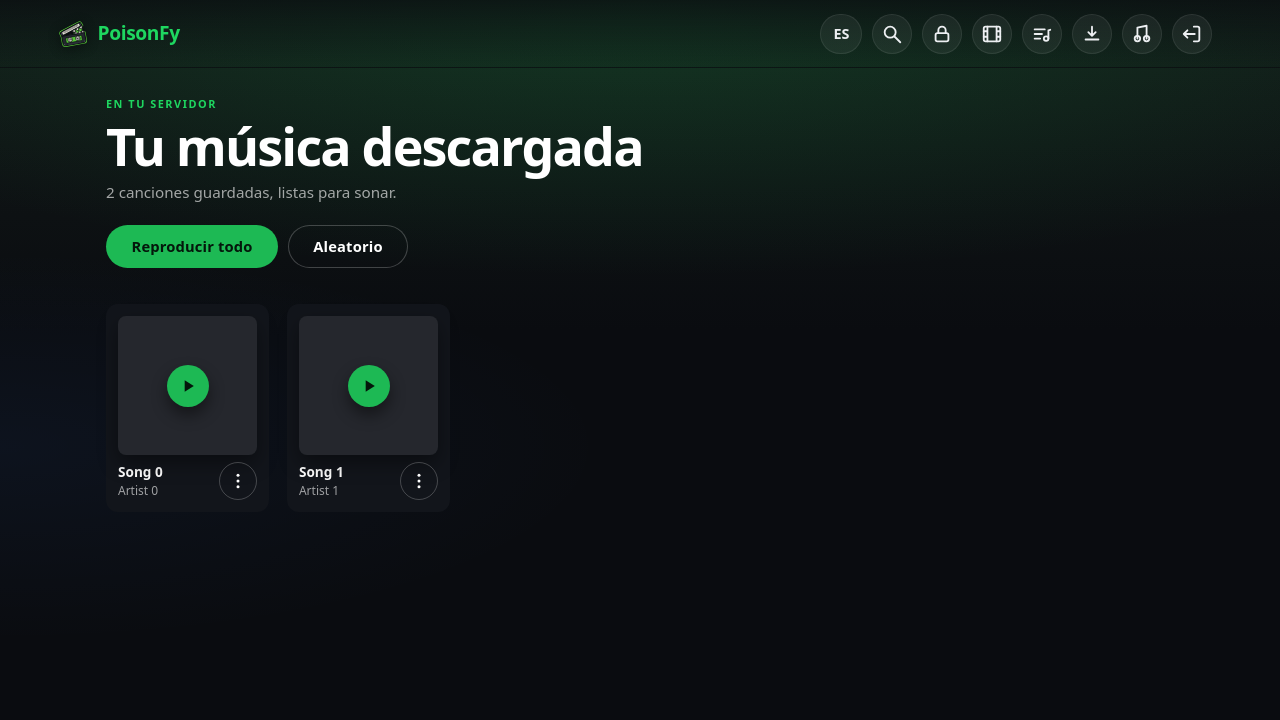
Test case: DownloadedScreen — tu música descargada › keeps the title a link to the track and the ⋮ out of playback
This screenshot has width=1280, height=720.
Click the button named "Más opciones para Song 0". click: [238, 481]
box: 219,462 -> 257,500
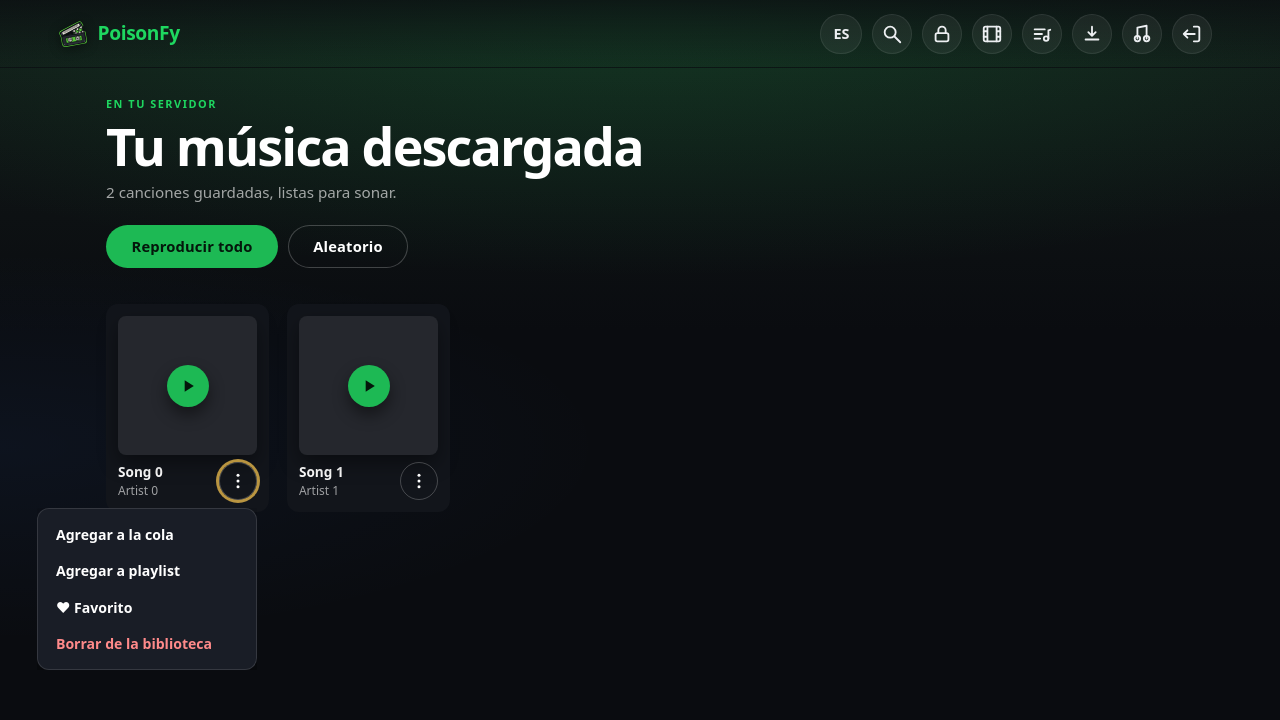
Check: the menu named "Opciones para Song 0" is shown, box 37,508 -> 257,670
